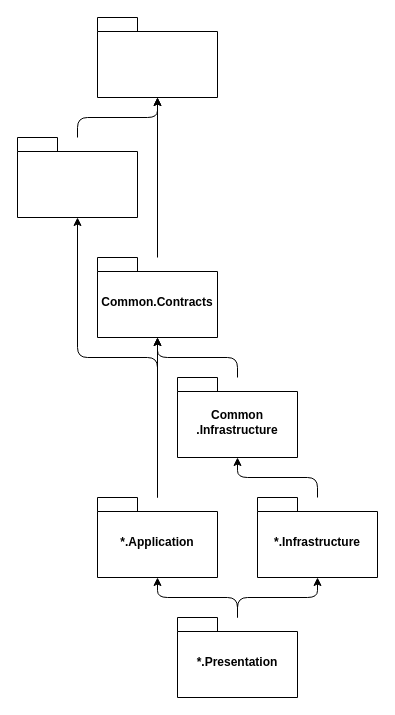
This 395x715 diagram has some shape labels left out. Here are the shapes that lost their labels. From the top down, the centre of each, then its label:
At point 157,57: "Common.Domain".
At point 77,177: "*.Domain".
